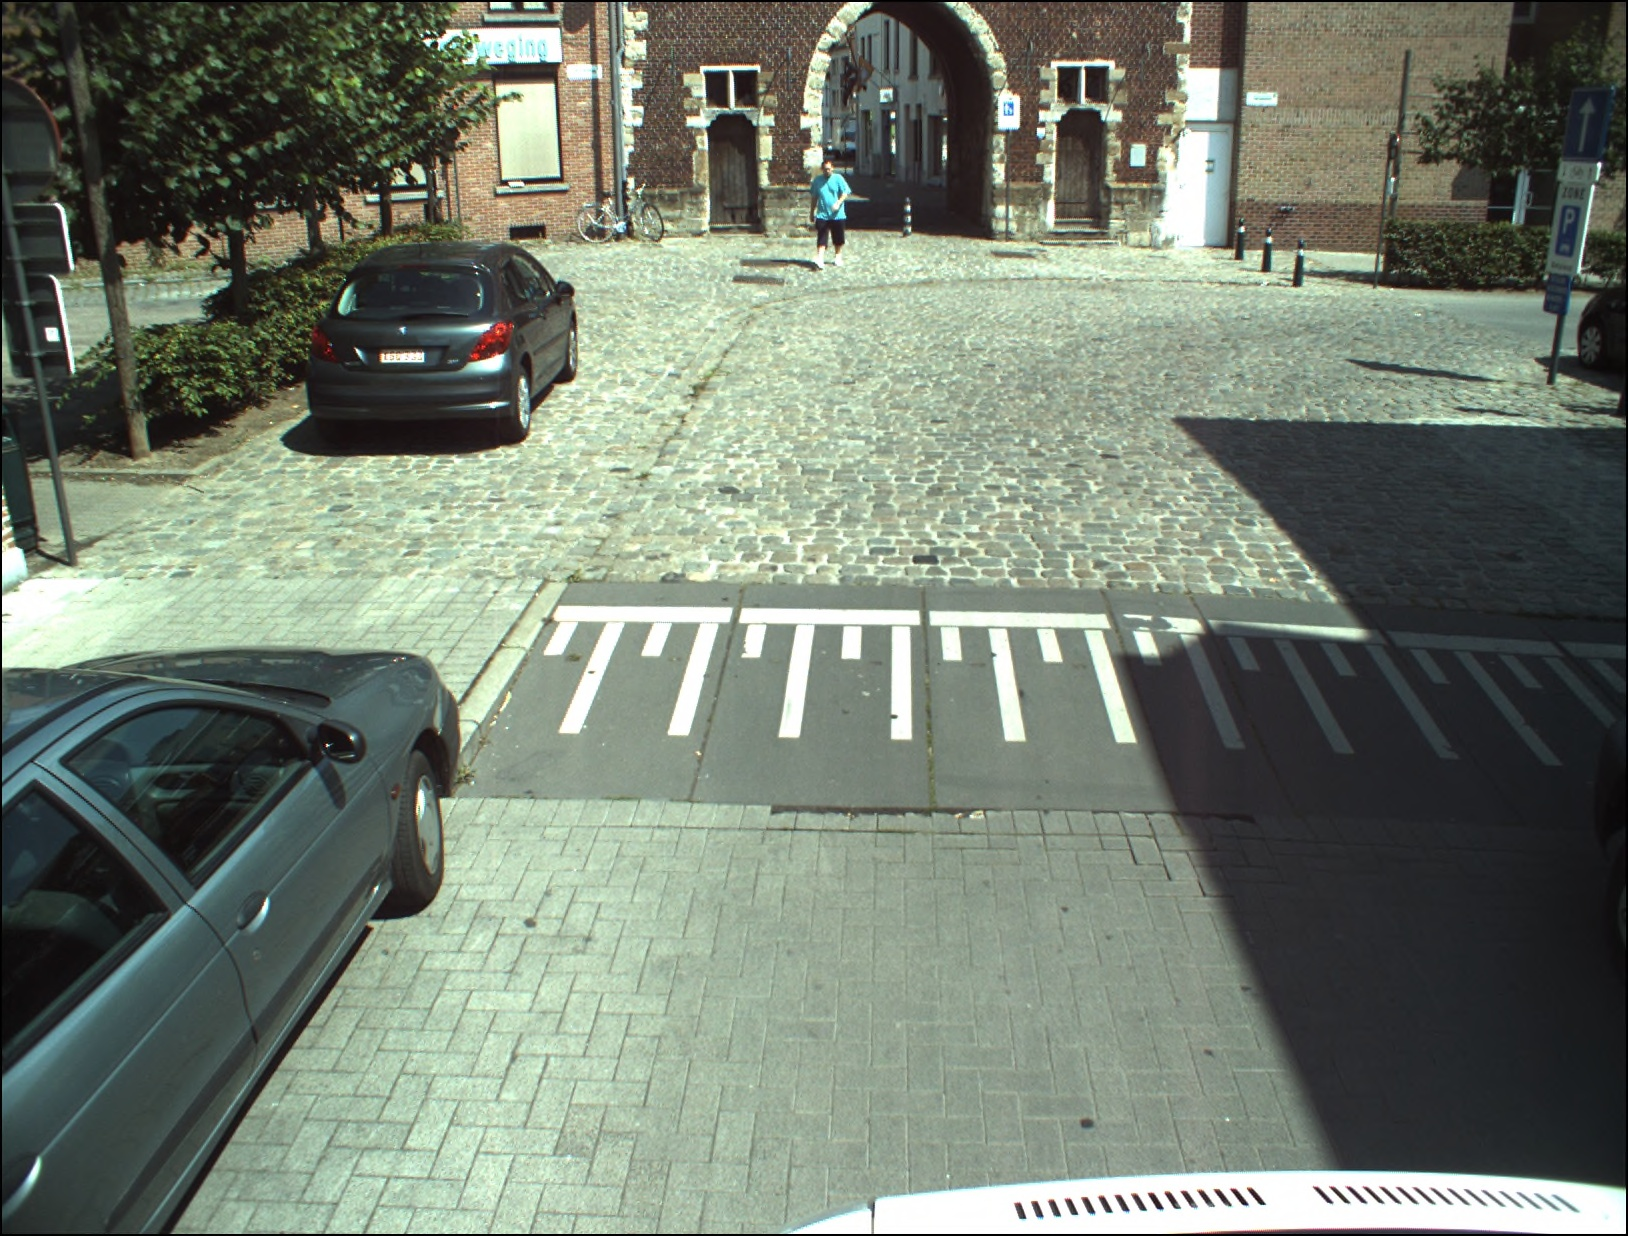oneway: (1566, 90, 1607, 158)
parking: (1557, 205, 1576, 258)
